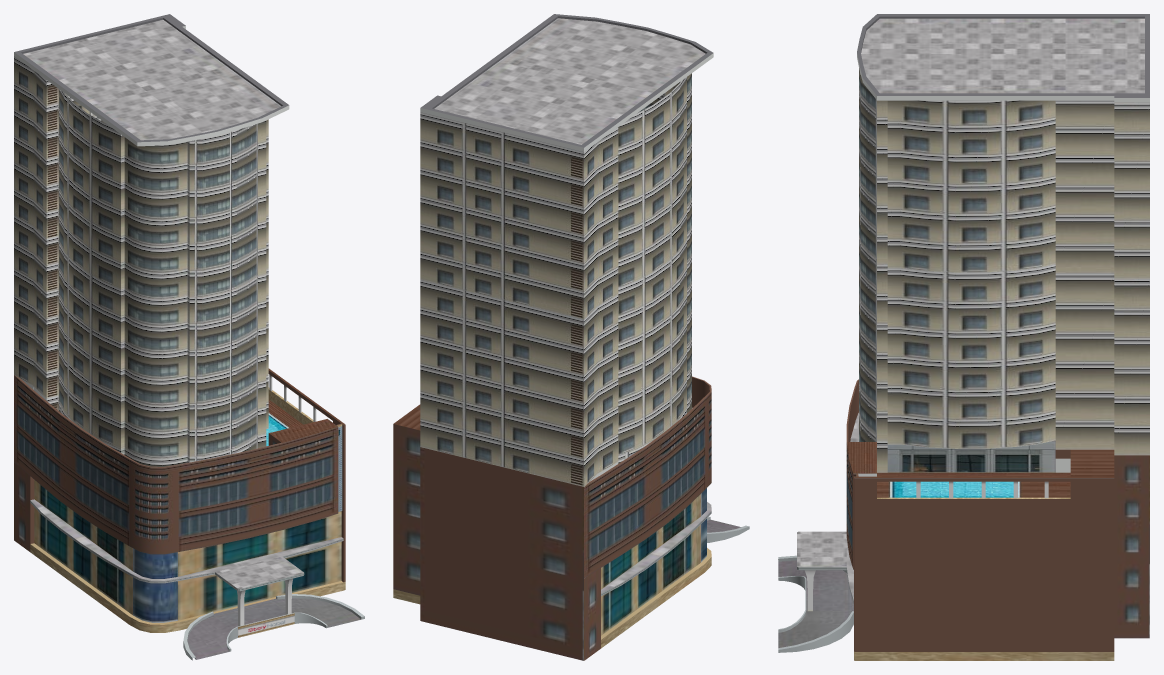
The picture shows the model from 3 angles, left to right: view 1: azimuth 30°, elevation 25°; view 2: azimuth 150°, elevation 25°; view 3: azimuth 270°, elevation 25°; orthographic projection. The views are drawn at different scales.
Parts seen in each view (by area): view 1: 5ca5c175b2ea6407ec9e675a.001; view 2: 5ca5c175b2ea6407ec9e675a.001; view 3: 5ca5c175b2ea6407ec9e675a.001.
Boxes of the visible parts, box(x1,y1,x2,y2) form: 5ca5c175b2ea6407ec9e675a.001: box(14, 14, 364, 660); 5ca5c175b2ea6407ec9e675a.001: box(393, 14, 749, 660); 5ca5c175b2ea6407ec9e675a.001: box(778, 14, 1149, 660).
Bounding box in the file's own units: 25.75 × 59 × 36.8.
1 material, 1 textured.
